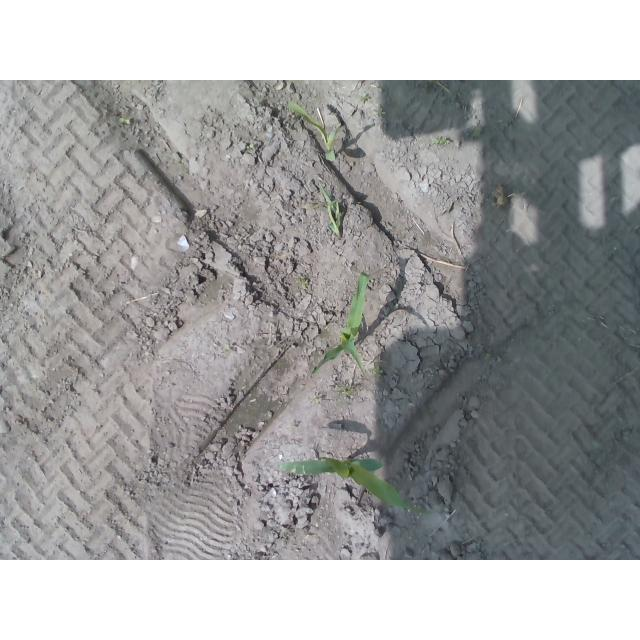Maize: (279, 456, 438, 521), (310, 268, 370, 380), (285, 99, 344, 162)
Weeds: (302, 185, 343, 239), (431, 136, 450, 146), (114, 115, 130, 125), (372, 365, 384, 378), (297, 277, 309, 289), (310, 394, 323, 405), (337, 386, 352, 395), (375, 108, 386, 118), (359, 96, 369, 105), (416, 512, 424, 521), (473, 128, 480, 137), (246, 143, 254, 150)
